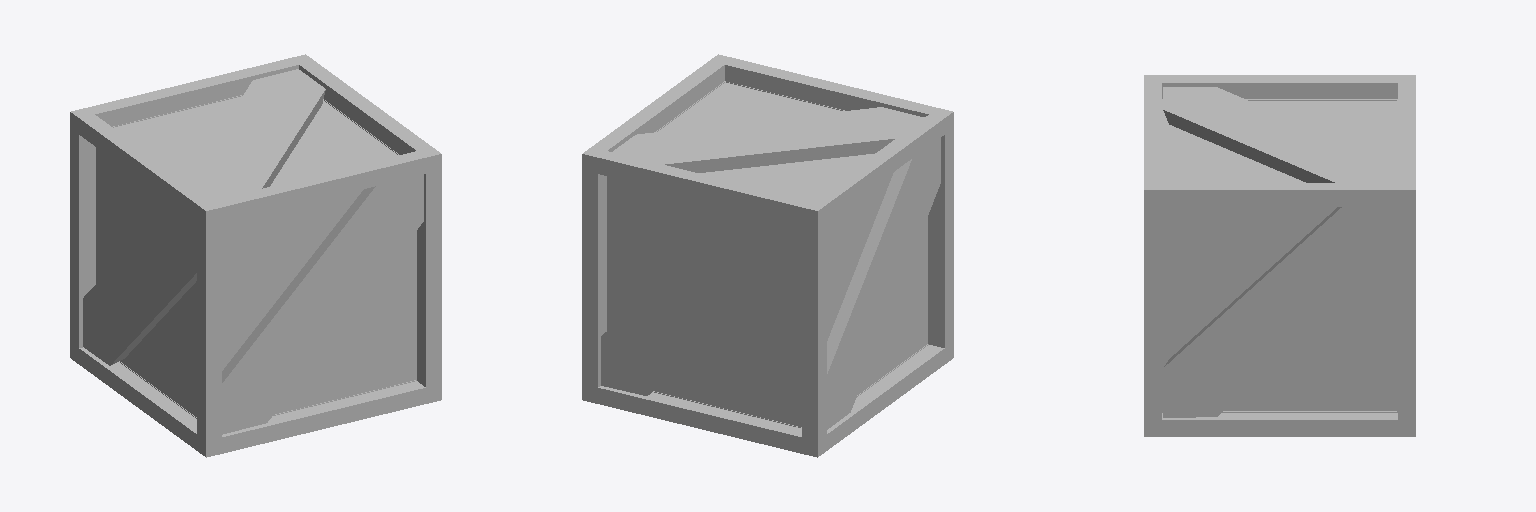
The model's file is SmallCrate.obj.
3 renders of one model, left to right at view 1: azimuth 30°, elevation 25°; view 2: azimuth 150°, elevation 25°; view 3: azimuth 270°, elevation 25°, orthographic.
Parts seen in each view (by area): view 1: SmallCrate; view 2: SmallCrate; view 3: SmallCrate.
Boxes of the visible parts, x1=… form: SmallCrate: x1=70, y1=54, x2=441, y2=457; SmallCrate: x1=582, y1=54, x2=953, y2=457; SmallCrate: x1=1144, y1=75, x2=1415, y2=436.
Bounding box in the file's own units: 1 × 1 × 1.